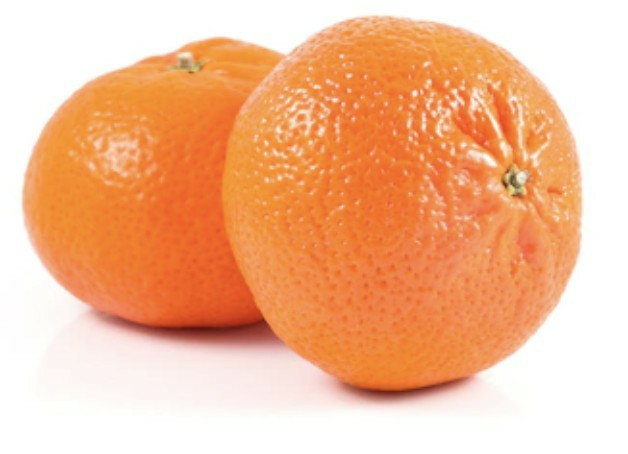fresh_orange: (224, 16, 582, 387), (23, 37, 282, 325)
